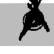not correct: (19, 0, 51, 44)
